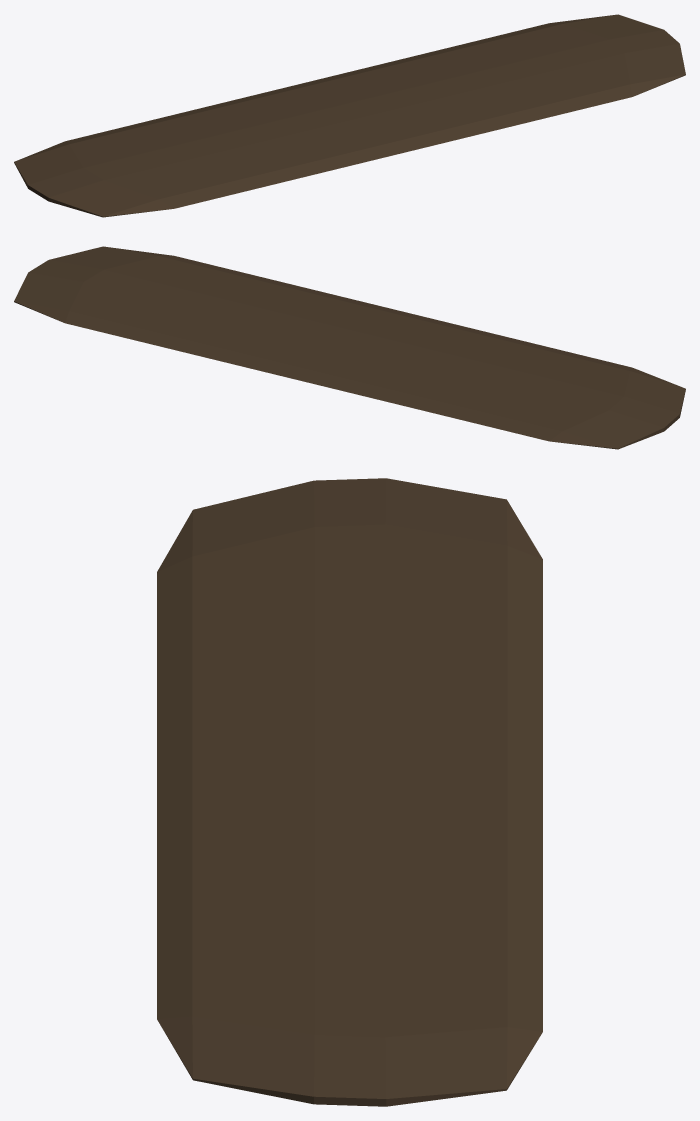
Rendered from DirtEdgeCover.fbx.
3 views of the same model, one above another, from view 1: azimuth 30°, elevation 25°; view 2: azimuth 150°, elevation 25°; view 3: azimuth 270°, elevation 25° (orthographic). The views are drawn at different scales.
Parts seen in each view (by area): view 1: DirtEdgeCover; view 2: DirtEdgeCover; view 3: DirtEdgeCover.
Part boxes in pixels (x1,y1,x2,y2): DirtEdgeCover: [14, 14, 685, 217]; DirtEdgeCover: [14, 246, 685, 449]; DirtEdgeCover: [157, 478, 542, 1106].
Size of the model in its own units: 195 by 3.37 by 51.29.
